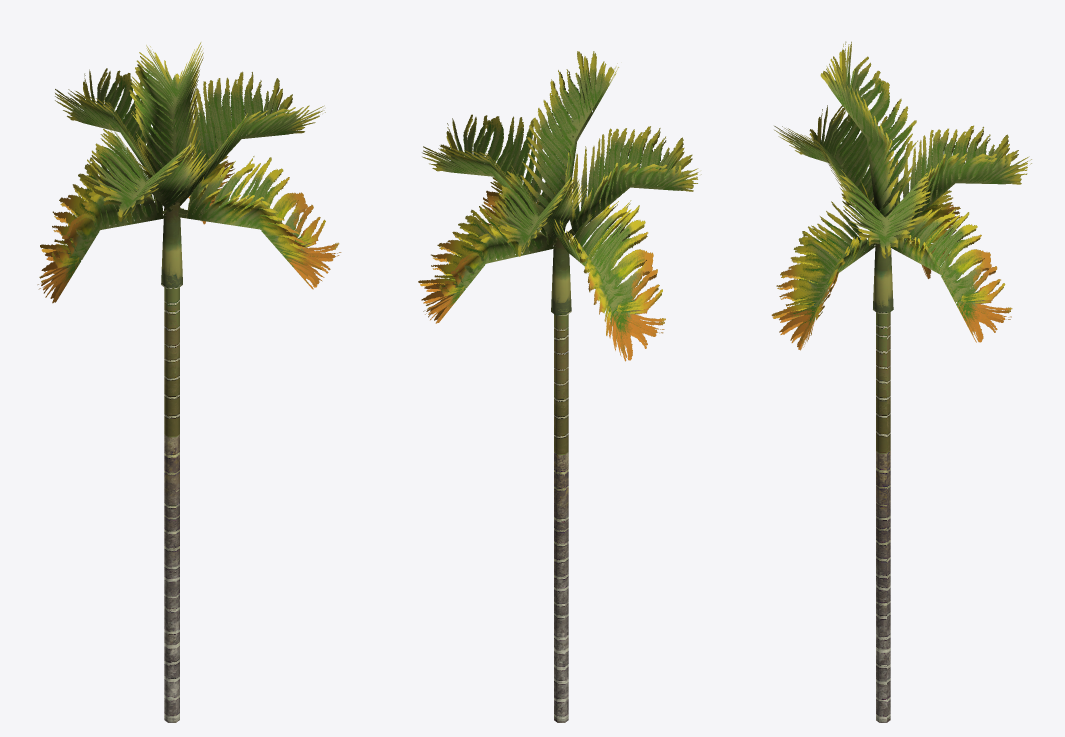
Rendered from flora_tree_palm_areca_v2.glb.
3 views of the same model, side by side, from view 1: azimuth 30°, elevation 25°; view 2: azimuth 150°, elevation 25°; view 3: azimuth 270°, elevation 25° (orthographic). The views are drawn at different scales.
Visible parts, largest first — view 1: flora_tree_palm_areca_v2_part0; view 2: flora_tree_palm_areca_v2_part0; view 3: flora_tree_palm_areca_v2_part0.
Part boxes in pixels (left/top/right/bottom): flora_tree_palm_areca_v2_part0: left=37, top=42, right=341, bottom=722; flora_tree_palm_areca_v2_part0: left=418, top=51, right=701, bottom=722; flora_tree_palm_areca_v2_part0: left=771, top=41, right=1031, bottom=722.
Bounding box in the file's own units: 10.61 × 25.29 × 10.15.
Materials: 1 (1 with a texture image).
